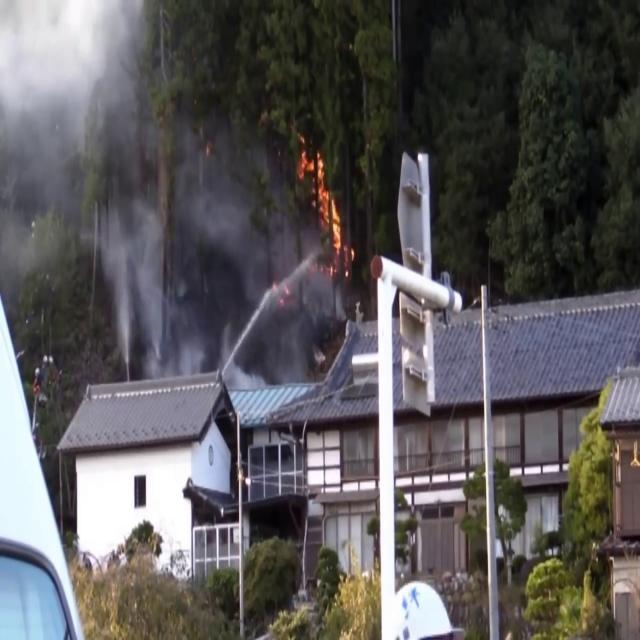Fire: (304, 140, 352, 278)
Smoke: (92, 125, 312, 372), (3, 0, 174, 263)
